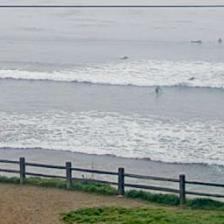surfer: (155, 86, 162, 94), (190, 40, 202, 44), (121, 55, 130, 60), (189, 76, 197, 80), (218, 38, 223, 44)
